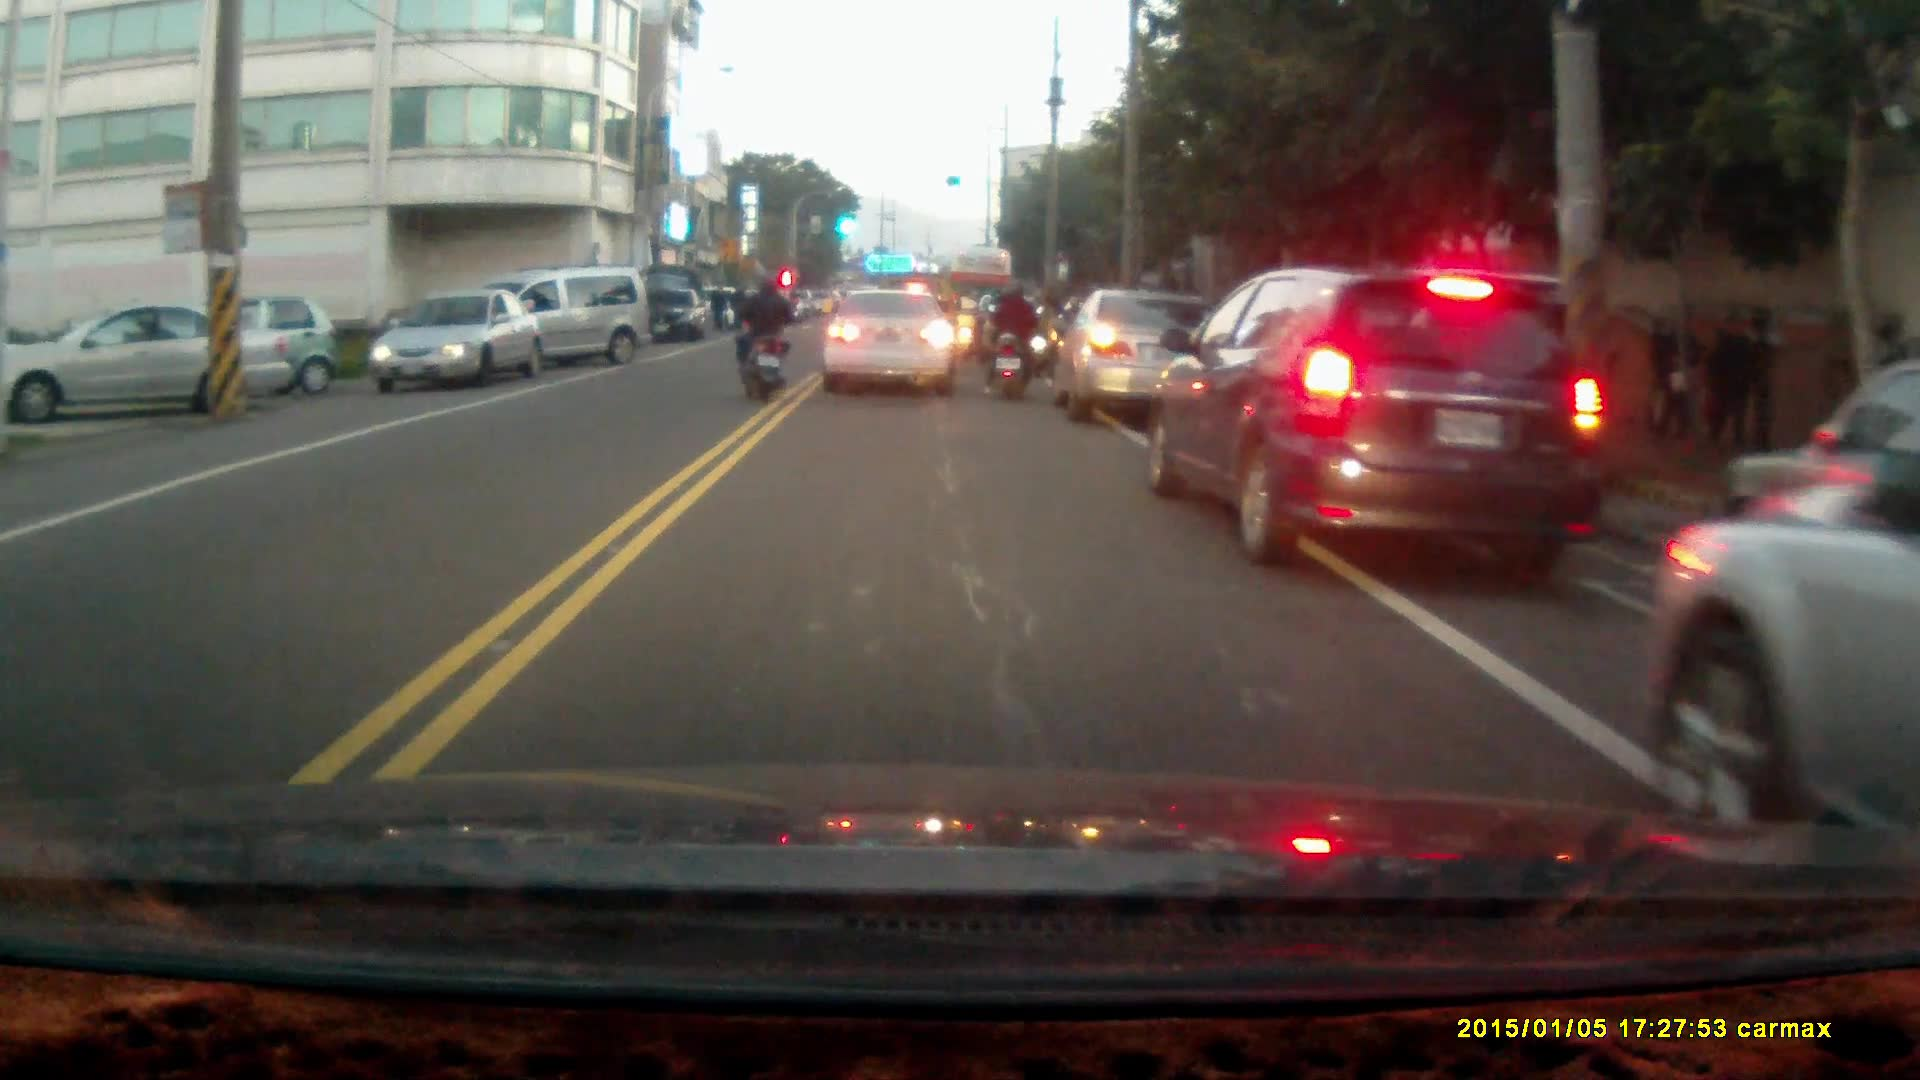pedestrian: (1704, 306, 1758, 455), (1655, 305, 1705, 453)
rider: (983, 271, 1045, 402), (733, 275, 794, 400)
vehicle: (1143, 263, 1611, 567), (1638, 426, 1920, 878), (7, 303, 275, 420), (115, 295, 337, 400), (1048, 285, 1222, 418), (465, 265, 653, 376), (371, 288, 540, 393), (820, 287, 959, 398), (643, 289, 703, 346)
